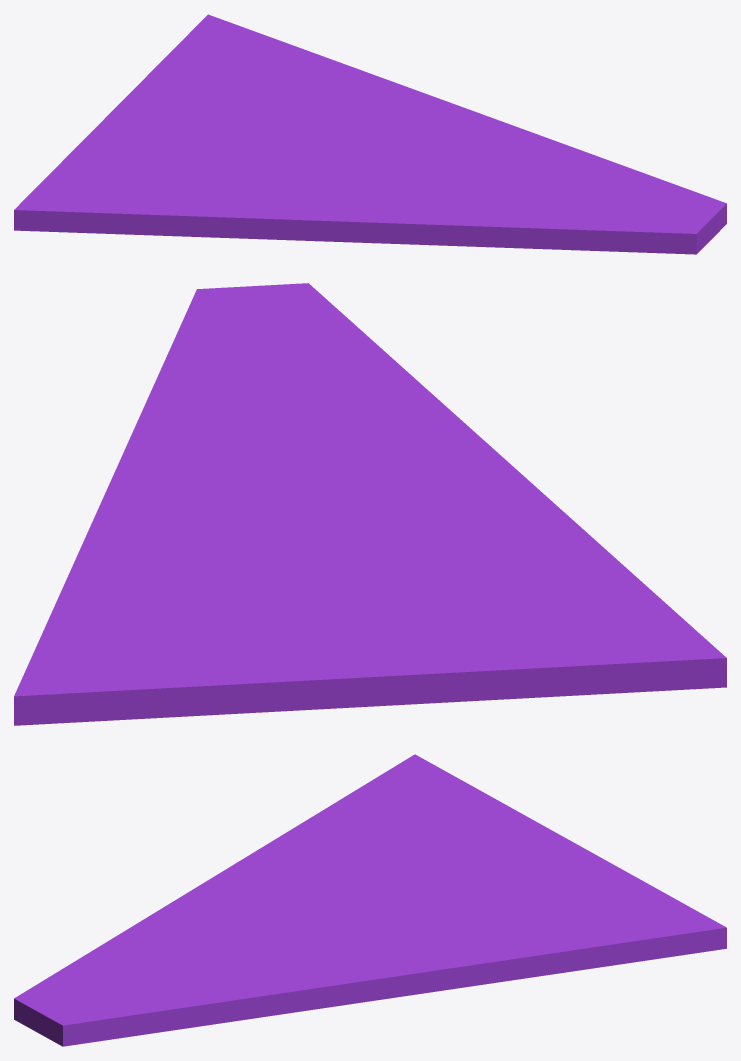
Rendered from StairsStep_40.fbx.
The picture shows the model from 3 angles, top to bottom: view 1: azimuth 30°, elevation 25°; view 2: azimuth 150°, elevation 25°; view 3: azimuth 270°, elevation 25°; orthographic projection. The views are drawn at different scales.
Visible parts, largest first — view 1: StairsStep_40; view 2: StairsStep_40; view 3: StairsStep_40.
Part boxes in pixels (x1,y1,x2,y2): StairsStep_40: (14, 14, 726, 254); StairsStep_40: (14, 283, 726, 725); StairsStep_40: (14, 754, 726, 1046).
Size of the model in its own units: 494 by 17.94 by 549.
